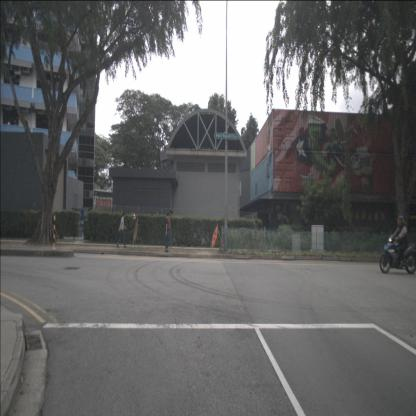human-pedestrian-adult: (116, 212, 128, 248), (166, 209, 173, 247), (165, 212, 170, 252)
vehicle-motorcycle: (379, 216, 416, 274)
